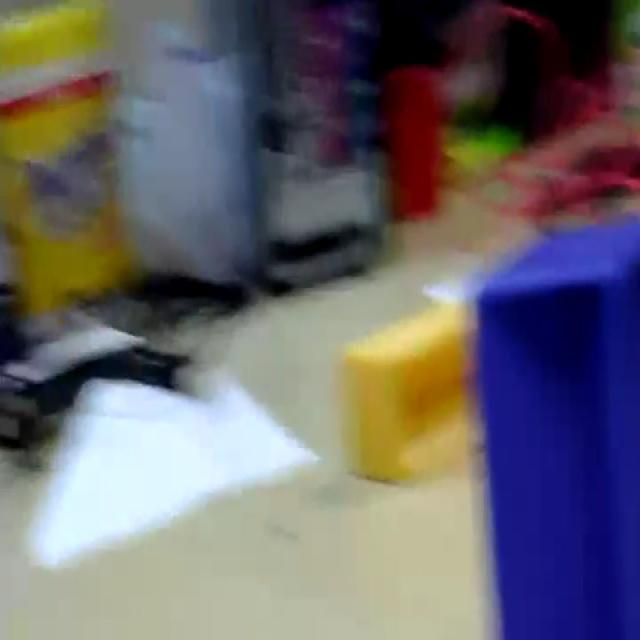blue_block: (474, 213, 638, 636)
yellow_block: (338, 296, 475, 483)
